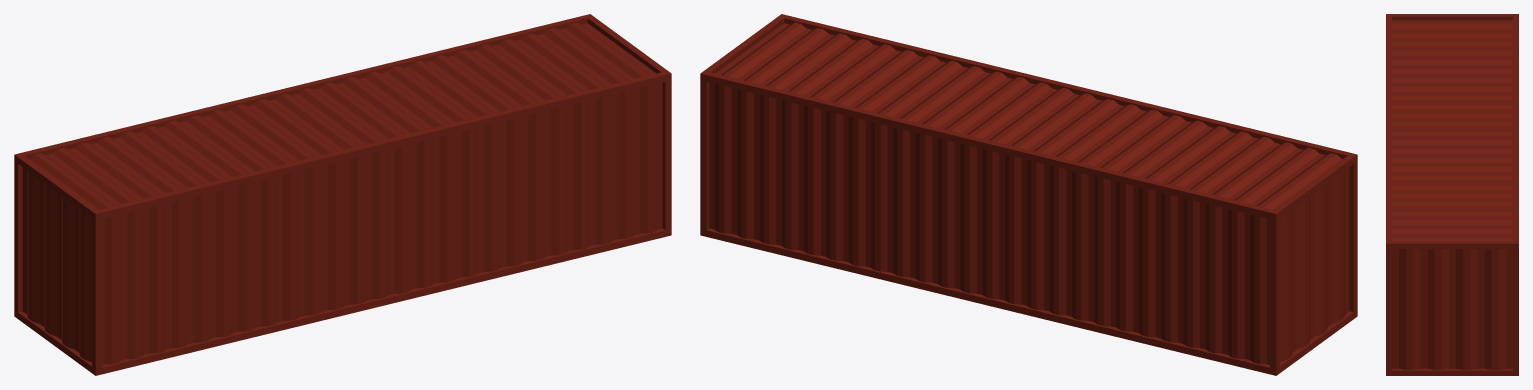
Rendered from ShippingContainer.fbx.
The picture shows the model from 3 angles, left to right: view 1: azimuth 30°, elevation 25°; view 2: azimuth 150°, elevation 25°; view 3: azimuth 270°, elevation 25°; orthographic projection. The views are drawn at different scales.
Visible parts, largest first — view 1: Cube; view 2: Cube; view 3: Cube.
Boxes of the visible parts, x1,y1,x2,y2 form: Cube: (14, 14, 671, 375); Cube: (700, 14, 1357, 375); Cube: (1386, 14, 1518, 375).
Size of the model in its own units: 23.4 by 6.28 by 5.72.
